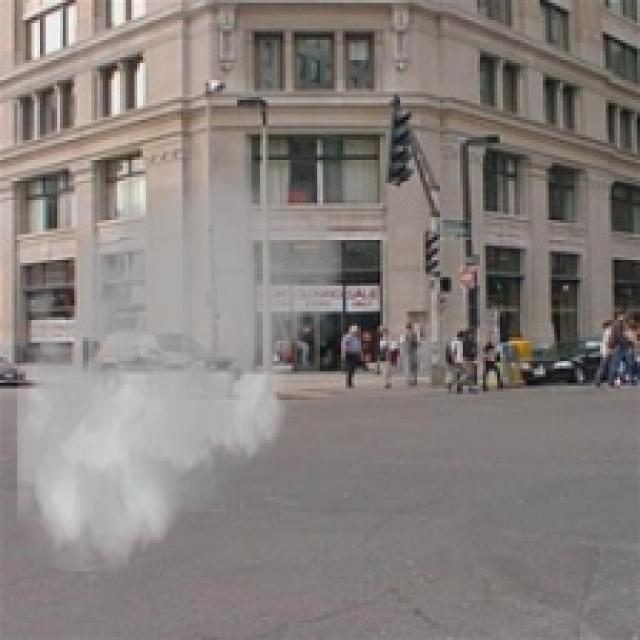smoke: (3, 148, 351, 572)
